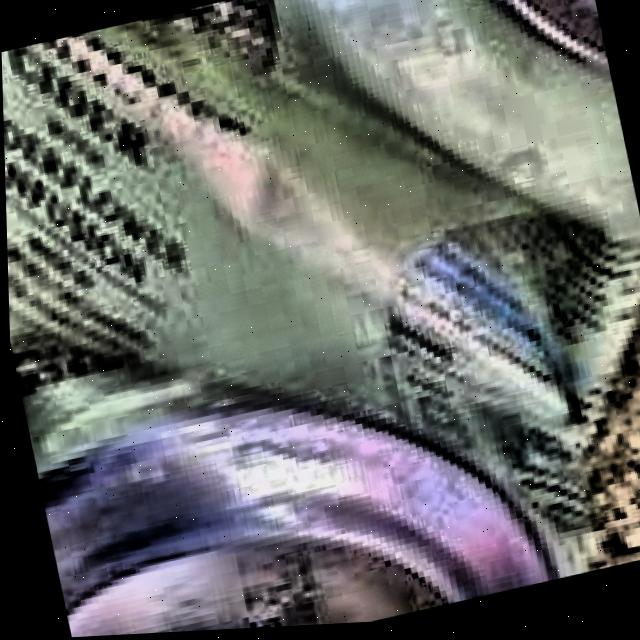metal: (1, 0, 640, 638)
